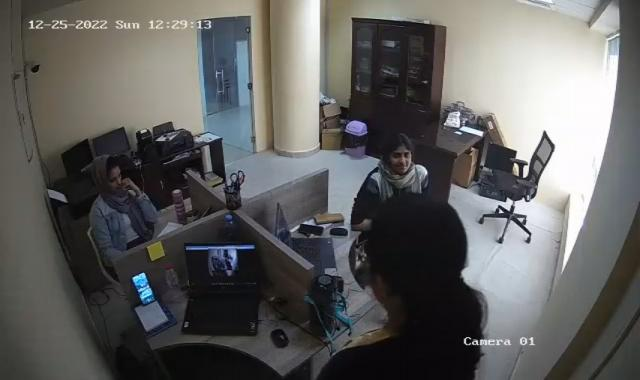no_hairnet: (372, 186, 485, 338), (383, 134, 412, 172), (93, 158, 122, 189)
